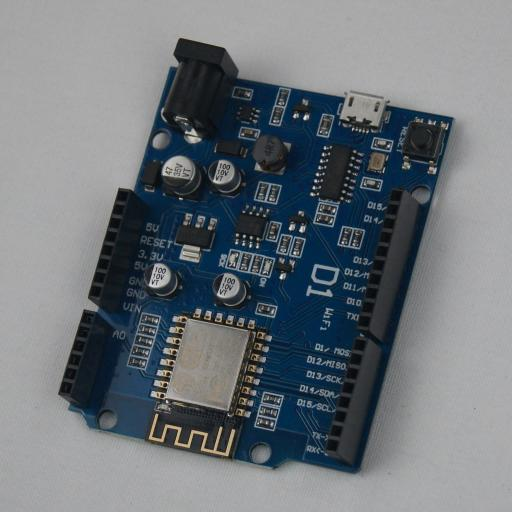Arduino Uno WiFi Shield: (58, 38, 454, 474)
